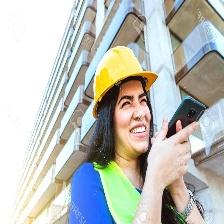Person: (70, 48, 206, 224)
helmet: (93, 45, 158, 111)
vest: (91, 158, 190, 224)
